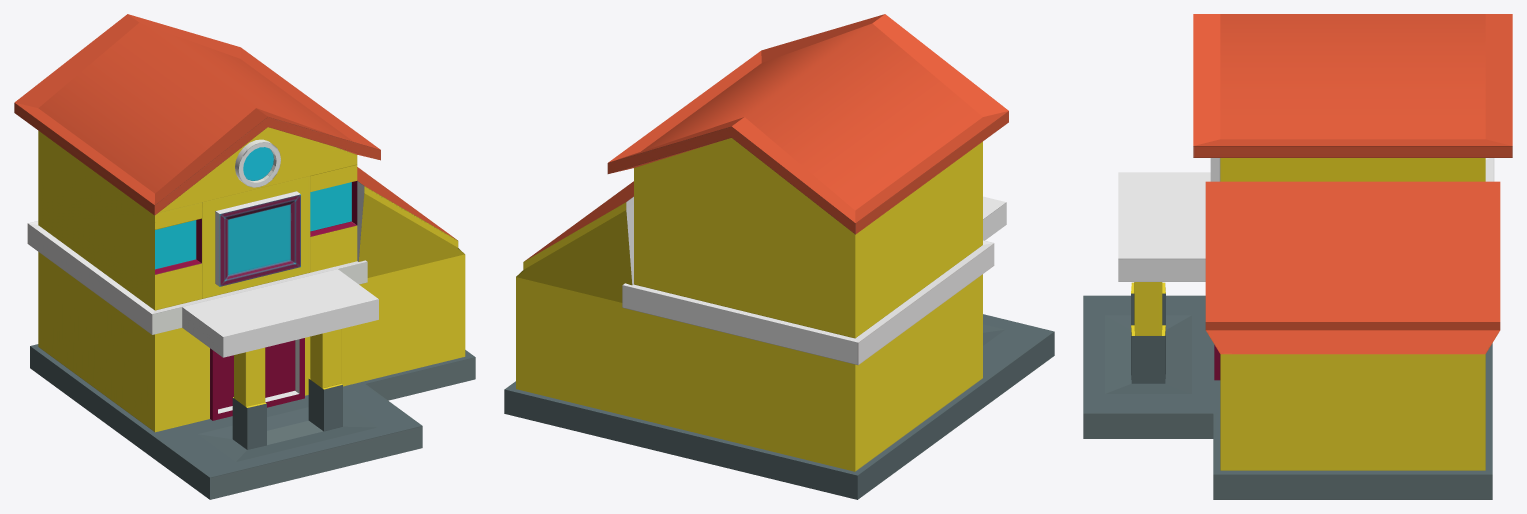
Rendered from house.fbx.
The picture shows the model from 3 angles, left to right: view 1: azimuth 30°, elevation 25°; view 2: azimuth 150°, elevation 25°; view 3: azimuth 270°, elevation 25°; orthographic projection. The views are drawn at different scales.
Visible parts, largest first — view 1: house_; view 2: house_; view 3: house_.
Part boxes in pixels (x1,y1,x2,y2): house_: (14,14,475,499); house_: (504,14,1054,499); house_: (1083,14,1512,499).
Bounding box in the file's own units: 15.5 × 14.47 × 15.38.
1 material, 1 textured.
